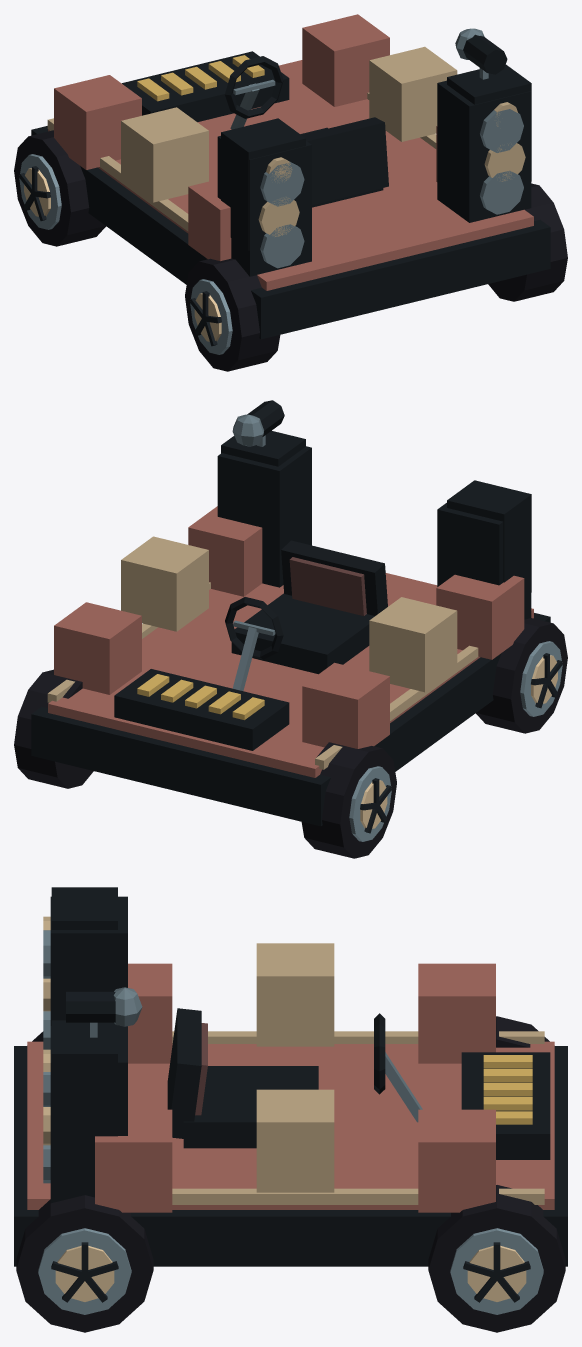
Rendered from kart.glb.
3 renders of one model, top to bottom at view 1: azimuth 30°, elevation 25°; view 2: azimuth 150°, elevation 25°; view 3: azimuth 270°, elevation 25°, orthographic. The views are drawn at different scales.
Parts seen in each view (by area): view 1: identity-stage-stage-platform-and-pa-towers, identity-stage-motif-blocks, identity-stage-motif-speakers, identity-stage-driver-cockpit, wheel-rear-left, wheel-front-left, wheel-rear-right, identity-stage-motif-microphone; view 2: identity-stage-stage-platform-and-pa-towers, identity-stage-motif-blocks, identity-stage-driver-cockpit, wheel-front-left, wheel-rear-left, identity-stage-motif-speakers, wheel-front-right, identity-stage-motif-microphone; view 3: identity-stage-stage-platform-and-pa-towers, identity-stage-motif-blocks, wheel-front-right, wheel-rear-right, identity-stage-motif-speakers, identity-stage-driver-cockpit, identity-stage-motif-microphone, wheel-front-left.
Boxes of the visible parts, left/top/right/bottom form: identity-stage-stage-platform-and-pa-towers: left=31, top=51, right=550, bottom=339; identity-stage-motif-blocks: left=54, top=14, right=457, bottom=261; identity-stage-motif-speakers: left=221, top=64, right=531, bottom=250; identity-stage-driver-cockpit: left=225, top=56, right=388, bottom=207; wheel-rear-left: left=185, top=258, right=280, bottom=371; wheel-front-left: left=14, top=130, right=106, bottom=246; wheel-rear-right: left=488, top=183, right=567, bottom=301; identity-stage-motif-microphone: left=455, top=28, right=507, bottom=79; identity-stage-stage-platform-and-pa-towers: left=31, top=446, right=550, bottom=826; identity-stage-motif-blocks: left=54, top=506, right=524, bottom=748; identity-stage-driver-cockpit: left=225, top=540, right=387, bottom=690; wheel-front-left: left=301, top=742, right=396, bottom=858; wheel-rear-left: left=475, top=618, right=567, bottom=733; identity-stage-motif-speakers: left=221, top=430, right=531, bottom=597; wheel-front-right: left=14, top=669, right=93, bottom=788; identity-stage-motif-microphone: left=232, top=400, right=284, bottom=446; identity-stage-stage-platform-and-pa-towers: left=14, top=896, right=567, bottom=1266; identity-stage-motif-blocks: left=95, top=943, right=495, bottom=1212; wheel-front-right: left=428, top=1185, right=565, bottom=1332; wheel-rear-right: left=16, top=1195, right=153, bottom=1332; identity-stage-motif-speakers: left=43, top=887, right=117, bottom=1172; identity-stage-driver-cockpit: left=167, top=1008, right=422, bottom=1148; identity-stage-motif-microphone: left=66, top=987, right=142, bottom=1037; wheel-front-left: left=496, top=1016, right=549, bottom=1047.
Size of the model in its own units: 2.16 by 1.57 by 2.5.
